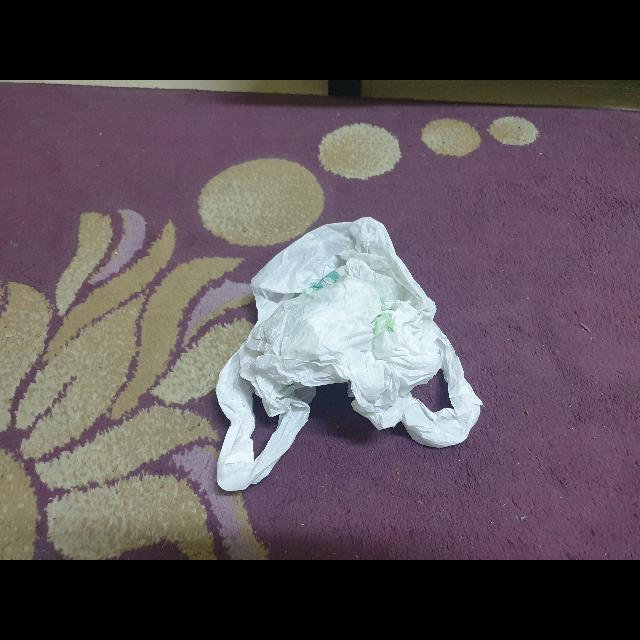plastic_bag: (204, 208, 488, 502)
